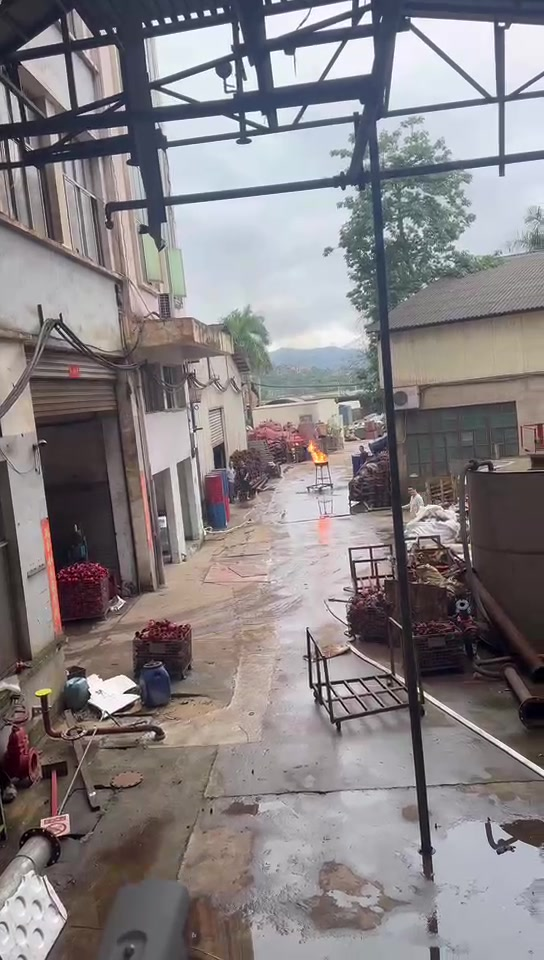fire: (307, 440, 325, 462)
